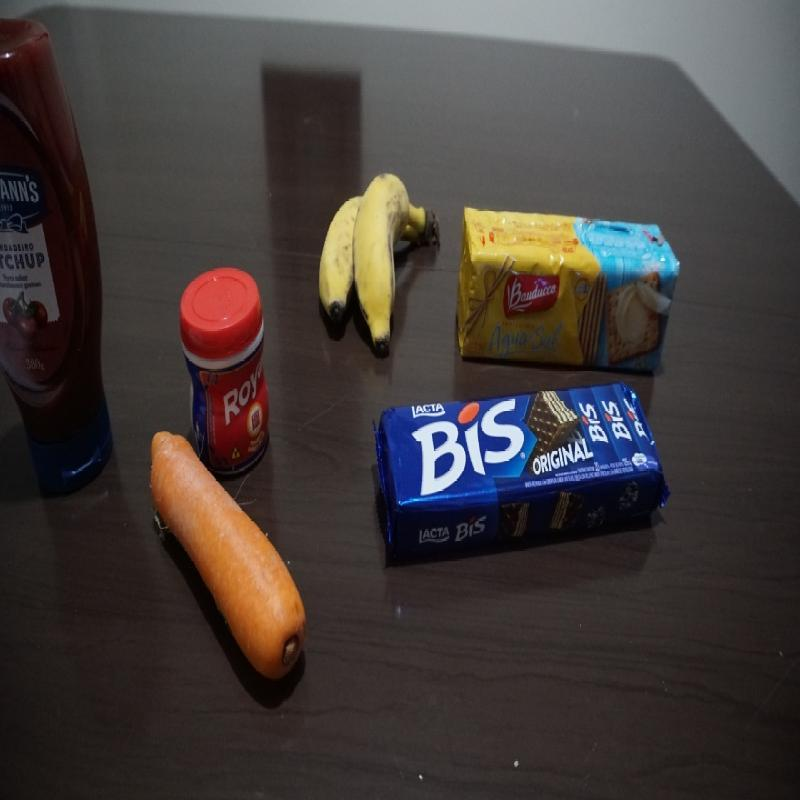Banana: (315, 171, 441, 356)
Carrot: (149, 427, 308, 687)
Cracker: (457, 206, 682, 375)
Ketchup: (1, 12, 114, 500)
Yeast: (178, 266, 274, 478)
